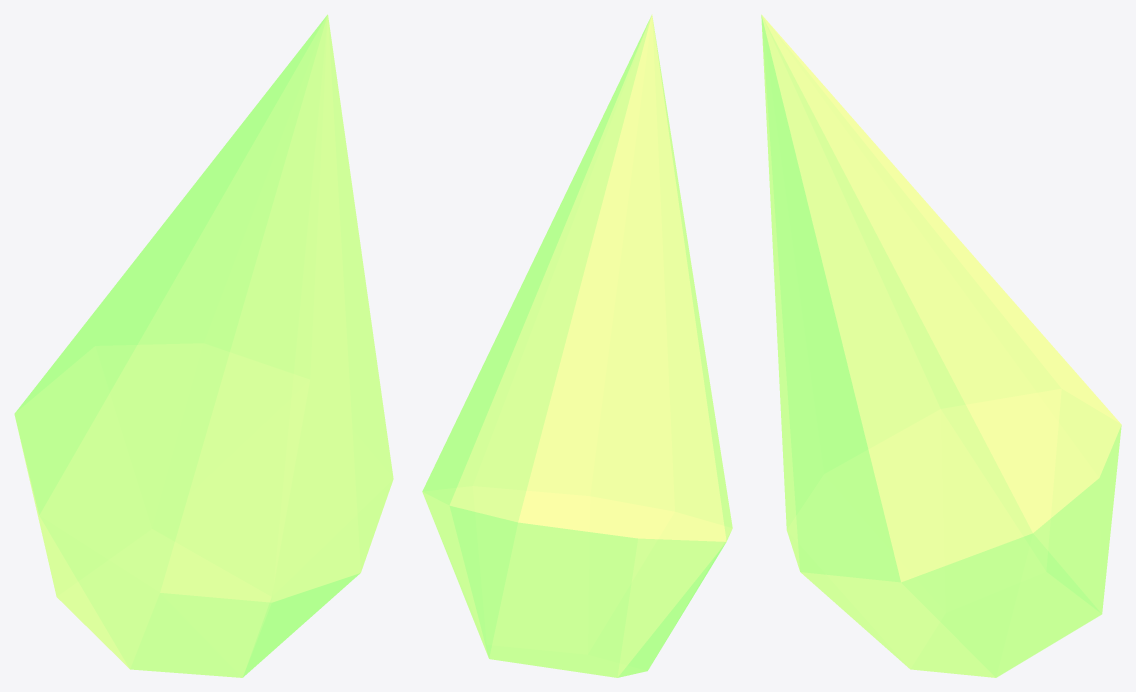
The model's file is enemy2.fbx.
3 views of the same model, side by side, from view 1: azimuth 30°, elevation 25°; view 2: azimuth 150°, elevation 25°; view 3: azimuth 270°, elevation 25° (orthographic). The views are drawn at different scales.
Parts seen in each view (by area): view 1: Enemy-2; view 2: Enemy-2; view 3: Enemy-2.
Boxes of the visible parts, x1=… form: Enemy-2: x1=14, y1=14, x2=393, y2=677; Enemy-2: x1=422, y1=14, x2=732, y2=677; Enemy-2: x1=761, y1=14, x2=1121, y2=677.
Bounding box in the file's own units: 114 × 238 × 118.
